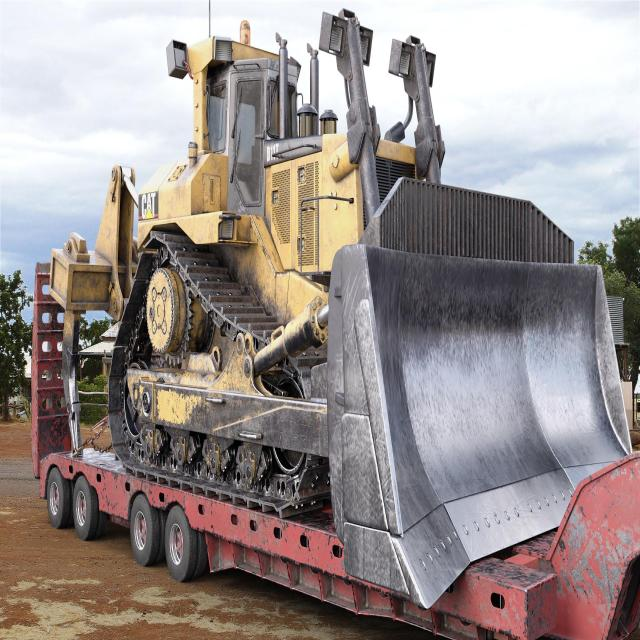buldozerpayloadergrader: (60, 9, 631, 598)
